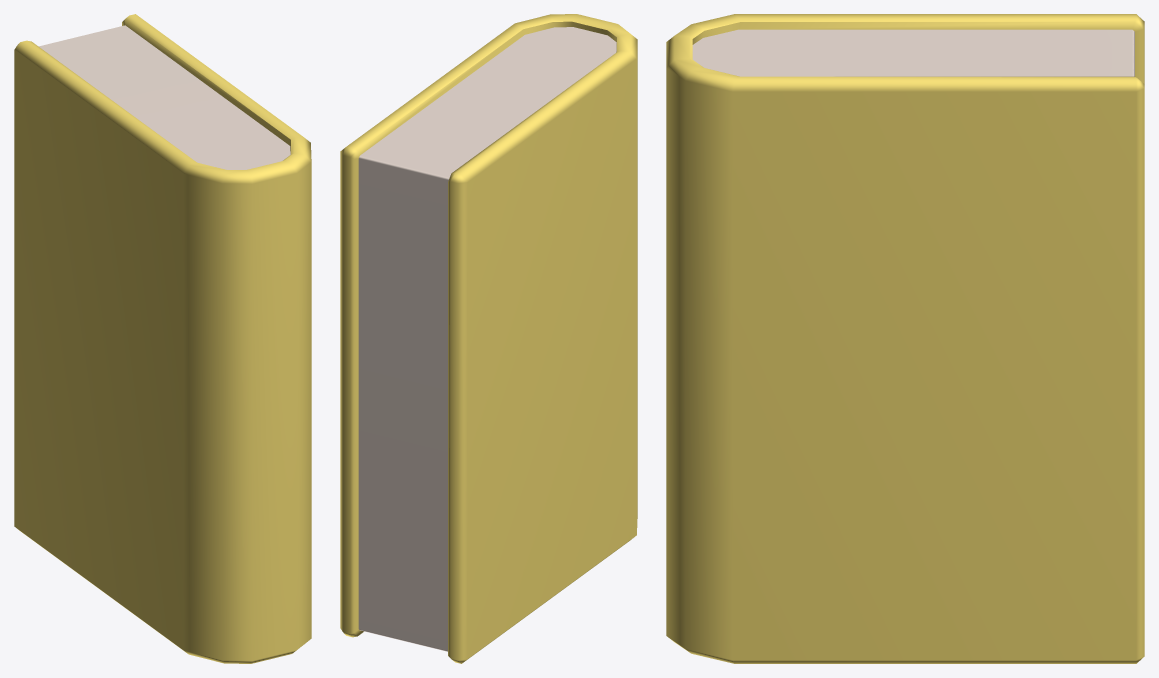
Rendered from Book_6.glb.
The picture shows the model from 3 angles, left to right: view 1: azimuth 30°, elevation 25°; view 2: azimuth 150°, elevation 25°; view 3: azimuth 270°, elevation 25°; orthographic projection. The views are drawn at different scales.
Visible parts, largest first — view 1: Book_6; view 2: Book_6; view 3: Book_6.
Part boxes in pixels (x1,y1,x2,y2): Book_6: [14, 14, 311, 663]; Book_6: [340, 14, 637, 663]; Book_6: [666, 14, 1144, 663].
Bounding box in the file's own units: 0.0876 × 0.3221 × 0.2393.
1 material, 1 textured.
